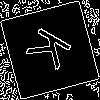K: (25, 25, 81, 77)
